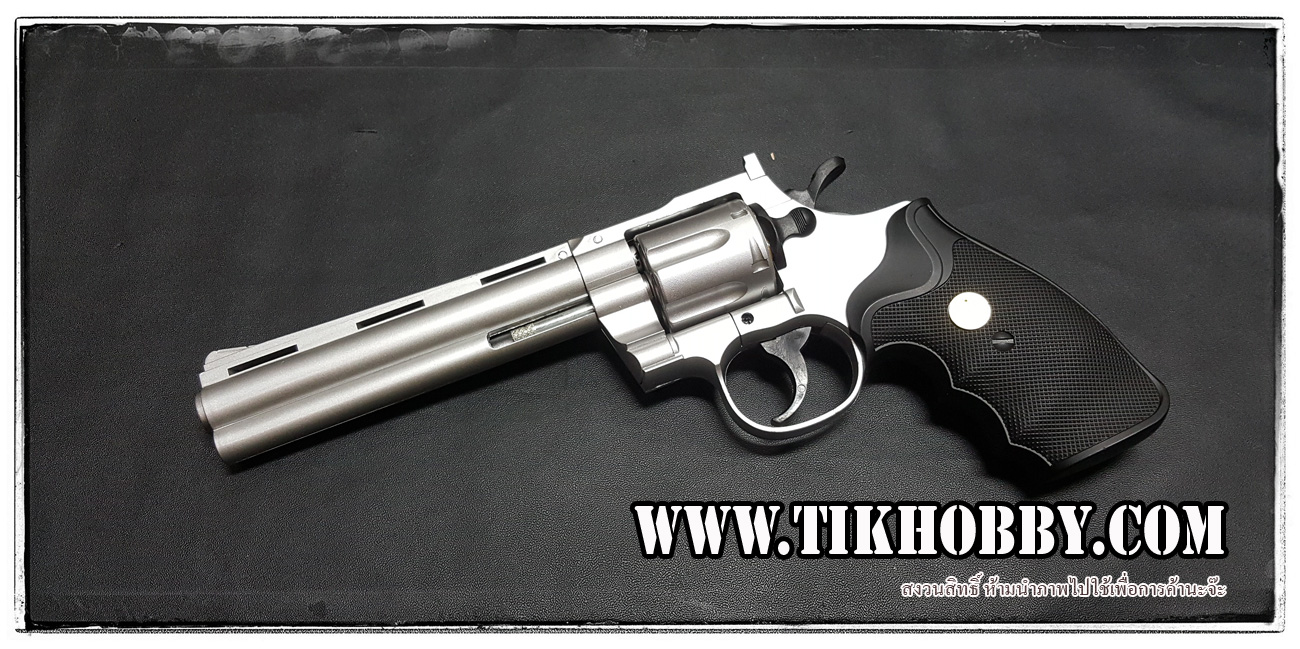gun: (185, 147, 1181, 496)
